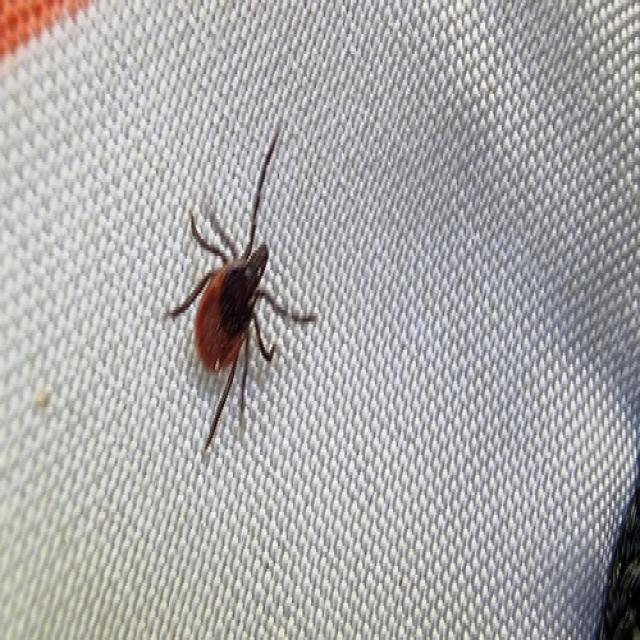Ixodes Ricinus-F: (168, 125, 317, 458)
